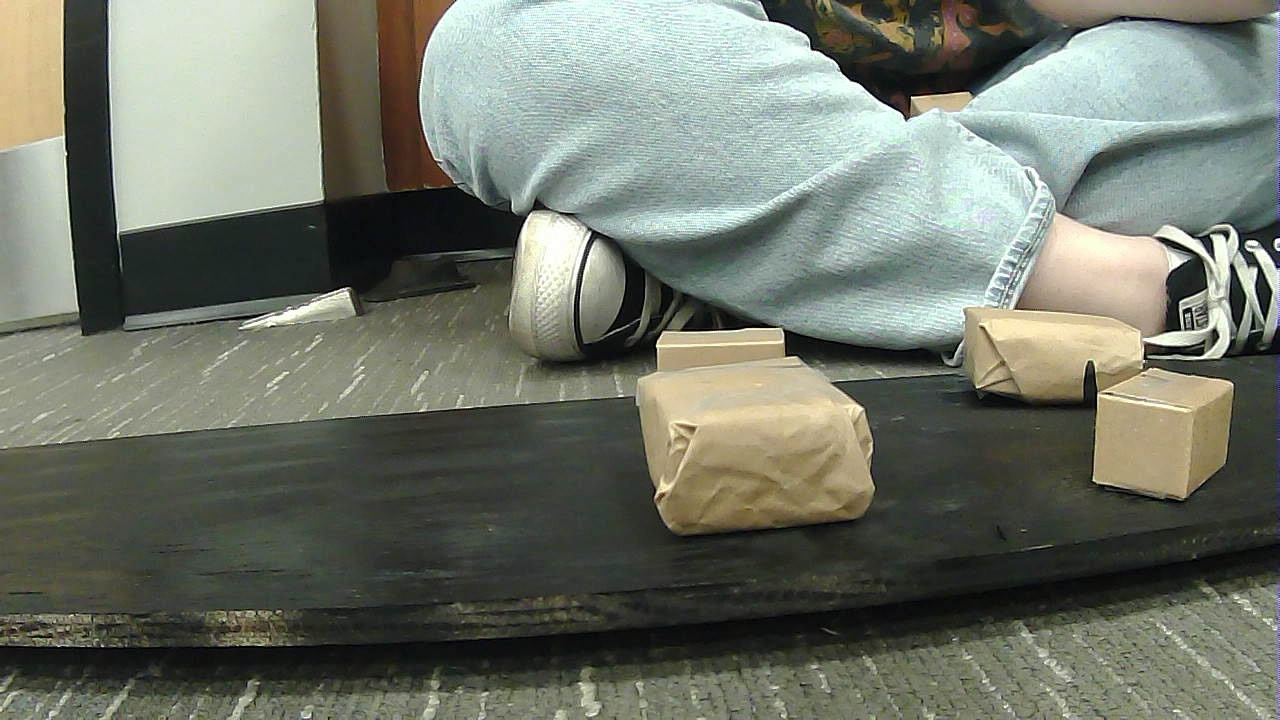package: (623, 363, 896, 526), (948, 296, 1159, 399), (1081, 374, 1247, 499), (641, 326, 817, 393)
